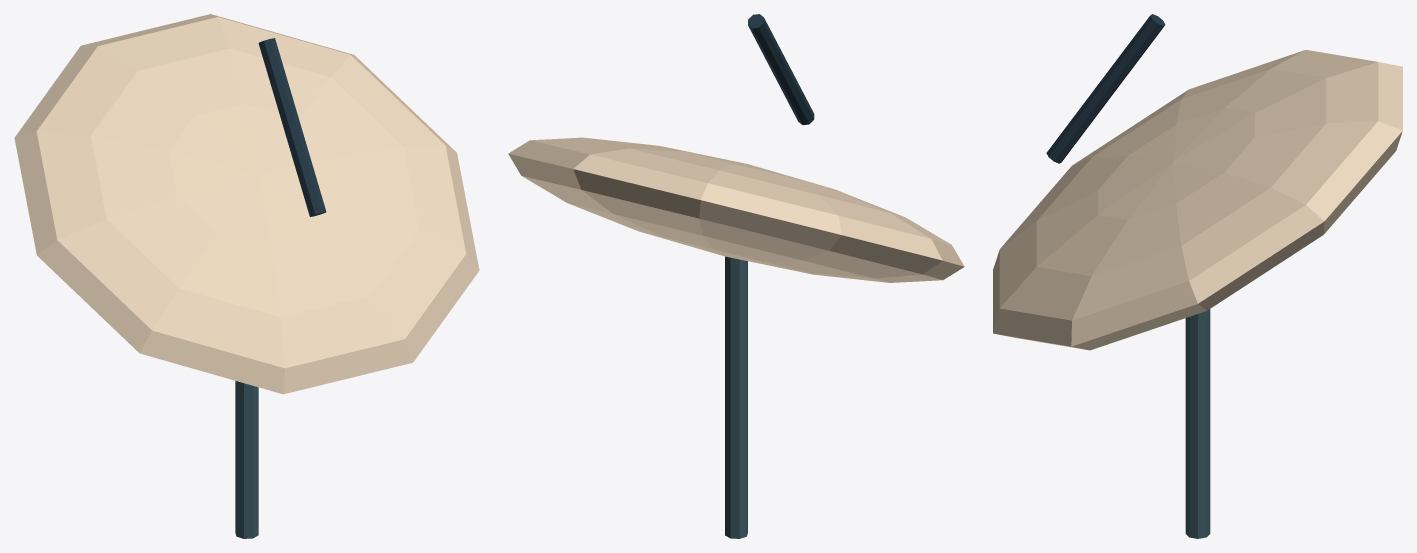
The model's file is satellite.obj.
3 views of the same model, side by side, from view 1: azimuth 30°, elevation 25°; view 2: azimuth 150°, elevation 25°; view 3: azimuth 270°, elevation 25° (orthographic). The views are drawn at different scales.
Visible parts, largest first — view 1: satellite; view 2: satellite; view 3: satellite.
Boxes of the visible parts, left/top/right/bottom form: satellite: left=14, top=14, right=479, bottom=538; satellite: left=508, top=14, right=964, bottom=538; satellite: left=993, top=14, right=1402, bottom=538.
Size of the model in its own units: 1.6 by 1.86 by 1.34.
